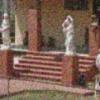stairs: (7, 52, 70, 80)
